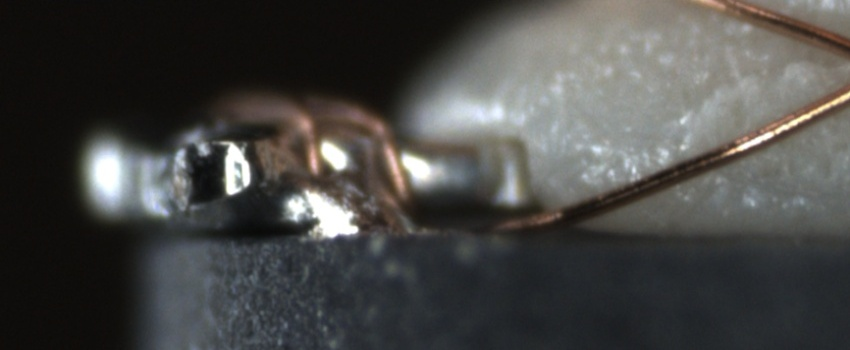TE: (242, 87, 416, 210)
